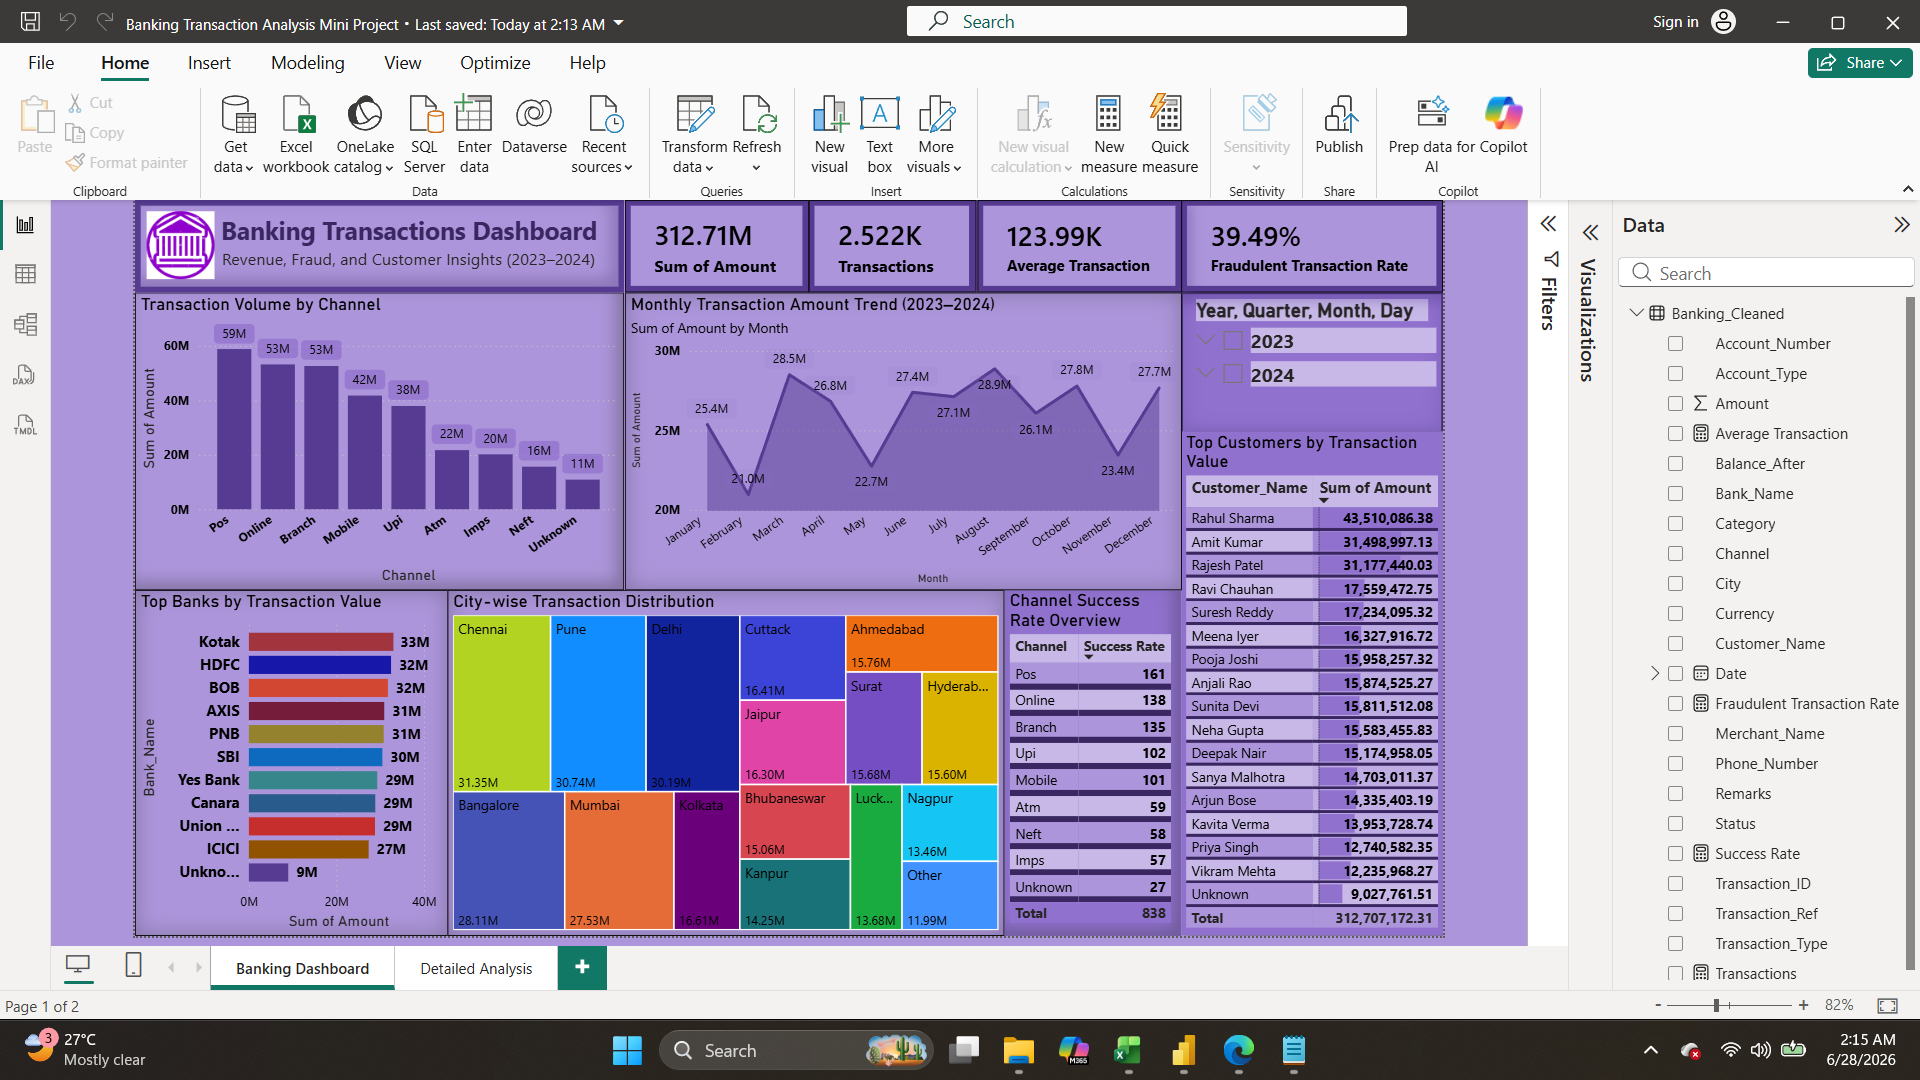

What the dashboard file says about the page in this screenshot:
{"tool":"powerbi","page":{"name":"Banking Dashboard","canvas":[1280,720],"ordinal":0},"visuals":[{"type":"slicer","fields":{"Values":["Banking_Cleaned.Date.Variation.Date Hierarchy.Year","Banking_Cleaned.Date.Variation.Date Hierarchy.Quarter","Banking_Cleaned.Date.Variation.Date Hierarchy.Month","Banking_Cleaned.Date.Variation.Date Hierarchy.Day"]},"box":[1023.8,90,256.2,137.5],"z":0},{"type":"cardVisual","title":"Transactions","fields":{"Data":["Sum(Banking_Cleaned.Amount)"]},"box":[478.8,0,180,90],"z":1000},{"type":"cardVisual","title":"Transactions","fields":{"Data":["Banking_Cleaned.Transactions"]},"box":[658.8,0,163.8,90],"z":2000},{"type":"cardVisual","title":"Transactions","fields":{"Data":["Banking_Cleaned.Fraudulent Transaction Rate"]},"box":[1023.8,0,256.2,90],"z":3000},{"type":"cardVisual","title":"Transactions","fields":{"Data":["Banking_Cleaned.Average Transaction"]},"box":[823.8,0,200,90],"z":4000},{"type":"lineStackedColumnComboChart","title":"Transaction Volume by Channel","fields":{"Category":["Banking_Cleaned.Channel"],"Y":["Sum(Banking_Cleaned.Amount)"]},"box":[0,90,478.8,291.2],"z":5000},{"type":"pivotTable","title":"Top Customers by Transaction Value","fields":{"Rows":["Banking_Cleaned.Customer_Name"],"Values":["Sum(Banking_Cleaned.Amount)"]},"box":[1023.5,226.2,256.8,492.8],"z":6000},{"type":"clusteredBarChart","title":"Top Banks by Transaction Value","fields":{"Category":["Banking_Cleaned.Bank_Name"],"Y":["Sum(Banking_Cleaned.Amount)"]},"box":[0,381.2,306.2,338.8],"z":7000},{"type":"treemap","title":" City-wise Transaction Distribution","fields":{"Group":["Banking_Cleaned.City"],"Values":["Sum(Banking_Cleaned.Amount)"]},"box":[306.2,381.2,545,338.8],"z":8000},{"type":"pivotTable","title":"Channel Success Rate Overview","fields":{"Values":["Banking_Cleaned.Success Rate"],"Rows":["Banking_Cleaned.Channel"]},"box":[851.2,381,172,338],"z":9000},{"type":"textbox","title":"Banking Transac","box":[0,0,478.8,90],"z":10000},{"type":"lineChart","title":"Monthly Transaction Amount Trend (2023–2024)","fields":{"Category":["Banking_Cleaned.Date.Variation.Date Hierarchy.Month"],"Y":["Sum(Banking_Cleaned.Amount)"]},"box":[478.8,90,545,291.2],"z":11000},{"type":"image","box":[9.8,11,69.7,66],"z":12000}]}

Visuals, with their boxes on the page's 1280x720 design canvas (x1, y1, x2, y2). These are canvas units, not pixel positions in the 1920x1080 screenshot, which may show the page scaled, cropped or inside an application window:
slicer - Banking_Cleaned.Date.Variation.Date Hierarchy.Year x Banking_Cleaned.Date.Variation.Date Hierarchy.Quarter: region(1024, 90, 1280, 228)
"Transactions" cardVisual: region(479, 0, 659, 90)
"Transactions" cardVisual: region(659, 0, 823, 90)
"Transactions" cardVisual: region(1024, 0, 1280, 90)
"Transactions" cardVisual: region(824, 0, 1024, 90)
"Transaction Volume by Channel" lineStackedColumnComboChart: region(0, 90, 479, 381)
"Top Customers by Transaction Value" pivotTable: region(1024, 226, 1280, 719)
"Top Banks by Transaction Value" clusteredBarChart: region(0, 381, 306, 720)
" City-wise Transaction Distribution" treemap: region(306, 381, 851, 720)
"Channel Success Rate Overview" pivotTable: region(851, 381, 1023, 719)
"Banking Transac" textbox: region(0, 0, 479, 90)
"Monthly Transaction Amount Trend (2023–2024)" lineChart: region(479, 90, 1024, 381)
image: region(10, 11, 80, 77)
